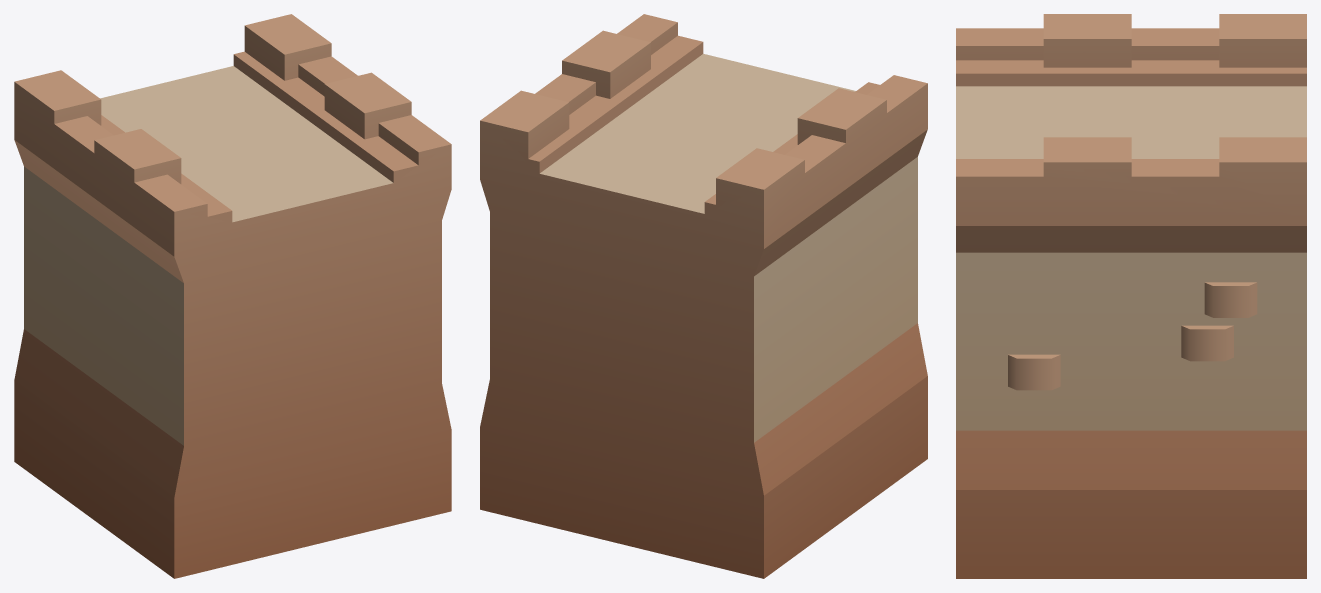
Rendered from castle-wall.glb.
3 renders of one model, left to right at view 1: azimuth 30°, elevation 25°; view 2: azimuth 150°, elevation 25°; view 3: azimuth 270°, elevation 25°, orthographic. The views are drawn at different scales.
Parts seen in each view (by area): view 1: wall; view 2: wall; view 3: wall.
Part boxes in pixels (left/top/right/bottom): wall: left=14, top=14, right=451, bottom=578; wall: left=480, top=14, right=927, bottom=578; wall: left=956, top=14, right=1306, bottom=578.
Size of the model in its own units: 1 by 1.31 by 1.
